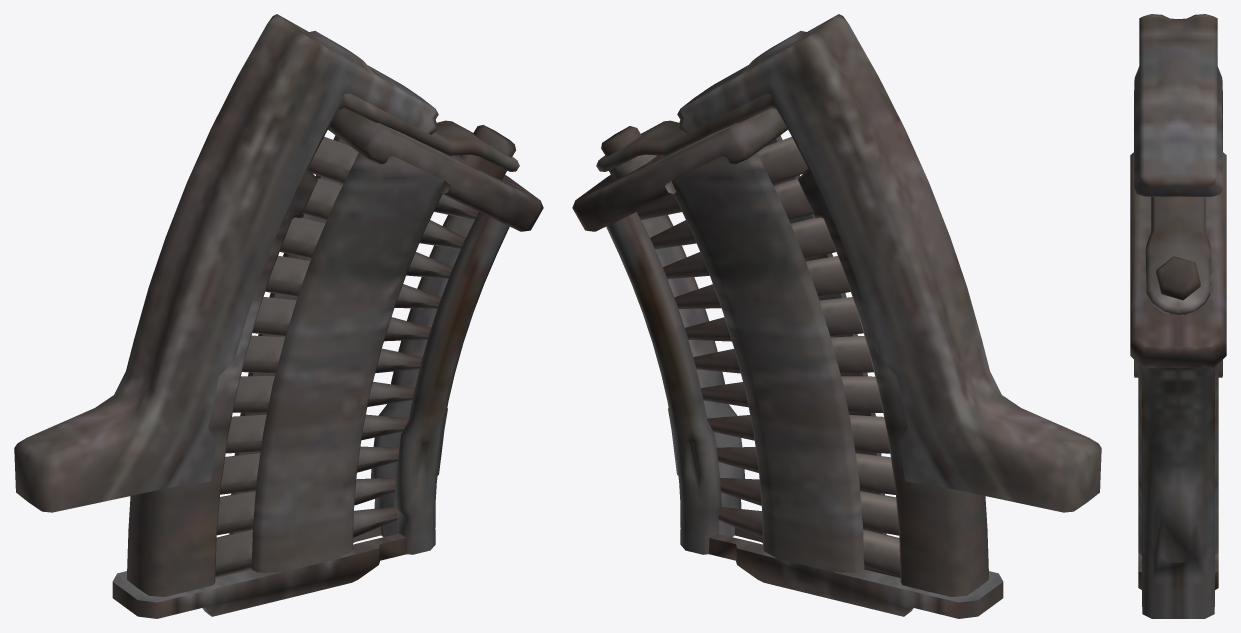
Rendered from HeavyWeapons_Vladof_Magazine_2.obj.
The picture shows the model from 3 angles, left to right: view 1: azimuth 30°, elevation 25°; view 2: azimuth 150°, elevation 25°; view 3: azimuth 270°, elevation 25°; orthographic projection.
Visible parts, largest first — view 1: Mag_2_body_back_SK_HW_VLA.342, Mag_2_body_front_SK_HW_VLA.343, Mag_2_bullet_1_SK_HW_VLA.345, Mag_2_bullet_2_SK_HW_VLA.346, Mag_2_bullet_3_SK_HW_VLA.347, Mag_2_bullet_4_SK_HW_VLA.348, Mag_2_bullet_5_SK_HW_VLA.349, Mag_2_bullet_11_SK_HW_VLA.355, Mag_2_bullet_6_SK_HW_VLA.350, Mag_2_bullet_7_SK_HW_VLA.351, Mag_2_bullet_8_SK_HW_VLA.352, Mag_2_bullet_9_SK_HW_VLA.353 (+1 smaller); view 2: Mag_2_body_back_SK_HW_VLA.342, Mag_2_body_front_SK_HW_VLA.343, Mag_2_bullet_1_SK_HW_VLA.345, Mag_2_bullet_2_SK_HW_VLA.346, Mag_2_bullet_3_SK_HW_VLA.347, Mag_2_bullet_4_SK_HW_VLA.348, Mag_2_bullet_5_SK_HW_VLA.349, Mag_2_bullet_11_SK_HW_VLA.355, Mag_2_bullet_6_SK_HW_VLA.350, Mag_2_bullet_7_SK_HW_VLA.351, Mag_2_bullet_8_SK_HW_VLA.352, Mag_2_bullet_9_SK_HW_VLA.353 (+1 smaller); view 3: Mag_2_body_front_SK_HW_VLA.343, Mag_2_body_back_SK_HW_VLA.342, Mag_2_body_nut_SK_HW_VLA.356.
Boxes of the visible parts, bbox=[...] form: Mag_2_body_back_SK_HW_VLA.342: bbox=[14, 14, 519, 596]; Mag_2_body_front_SK_HW_VLA.343: bbox=[112, 108, 543, 618]; Mag_2_bullet_1_SK_HW_VLA.345: bbox=[215, 506, 397, 576]; Mag_2_bullet_2_SK_HW_VLA.346: bbox=[216, 477, 395, 535]; Mag_2_bullet_3_SK_HW_VLA.347: bbox=[220, 446, 399, 494]; Mag_2_bullet_4_SK_HW_VLA.348: bbox=[225, 414, 408, 453]; Mag_2_bullet_5_SK_HW_VLA.349: bbox=[233, 376, 414, 412]; Mag_2_bullet_11_SK_HW_VLA.355: bbox=[308, 136, 478, 219]; Mag_2_bullet_6_SK_HW_VLA.350: bbox=[242, 335, 422, 373]; Mag_2_bullet_7_SK_HW_VLA.351: bbox=[252, 297, 430, 341]; Mag_2_bullet_8_SK_HW_VLA.352: bbox=[265, 255, 441, 308]; Mag_2_bullet_9_SK_HW_VLA.353: bbox=[279, 217, 452, 278]; Mag_2_body_back_SK_HW_VLA.342: bbox=[596, 14, 1101, 596]; Mag_2_body_front_SK_HW_VLA.343: bbox=[572, 108, 1003, 618]; Mag_2_bullet_1_SK_HW_VLA.345: bbox=[718, 507, 900, 576]; Mag_2_bullet_2_SK_HW_VLA.346: bbox=[720, 478, 899, 535]; Mag_2_bullet_3_SK_HW_VLA.347: bbox=[716, 447, 895, 494]; Mag_2_bullet_4_SK_HW_VLA.348: bbox=[707, 414, 890, 453]; Mag_2_bullet_5_SK_HW_VLA.349: bbox=[701, 376, 883, 412]; Mag_2_bullet_11_SK_HW_VLA.355: bbox=[637, 136, 807, 220]; Mag_2_bullet_6_SK_HW_VLA.350: bbox=[693, 336, 873, 373]; Mag_2_bullet_7_SK_HW_VLA.351: bbox=[685, 297, 863, 341]; Mag_2_bullet_8_SK_HW_VLA.352: bbox=[674, 256, 850, 309]; Mag_2_bullet_9_SK_HW_VLA.353: bbox=[663, 217, 836, 279]; Mag_2_body_front_SK_HW_VLA.343: bbox=[1130, 152, 1226, 618]; Mag_2_body_back_SK_HW_VLA.342: bbox=[1134, 14, 1222, 377]; Mag_2_body_nut_SK_HW_VLA.356: bbox=[1156, 256, 1200, 300].
Size of the model in its own units: 35.99 by 38.15 by 6.01.
